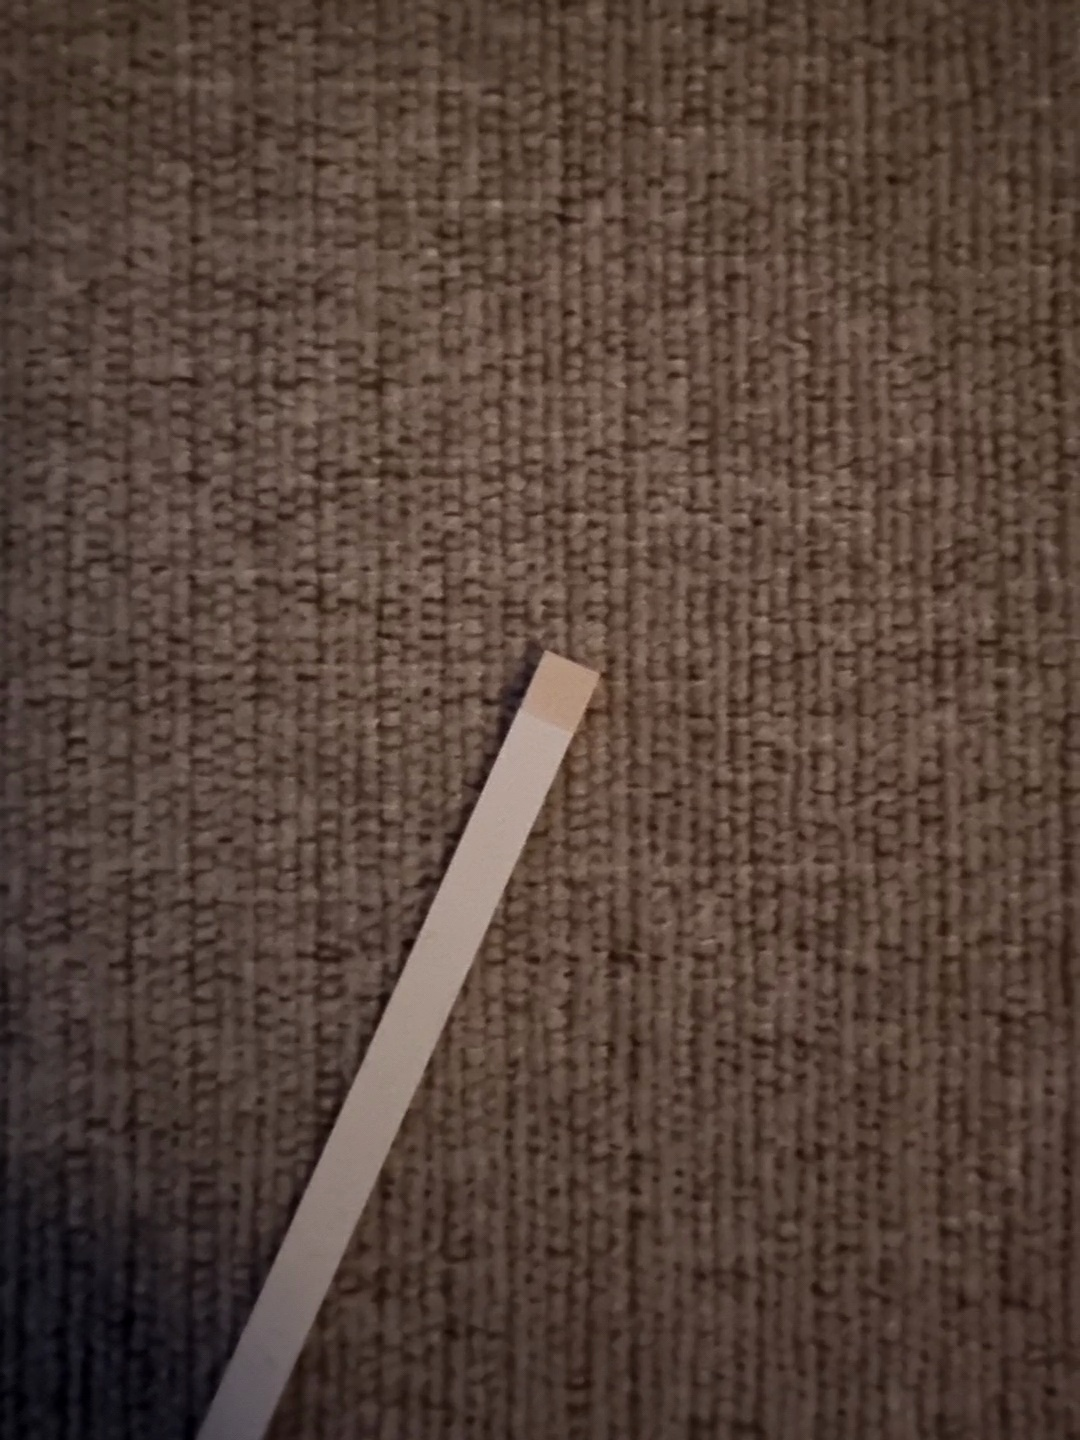keto-tip: (511, 647, 602, 734)
